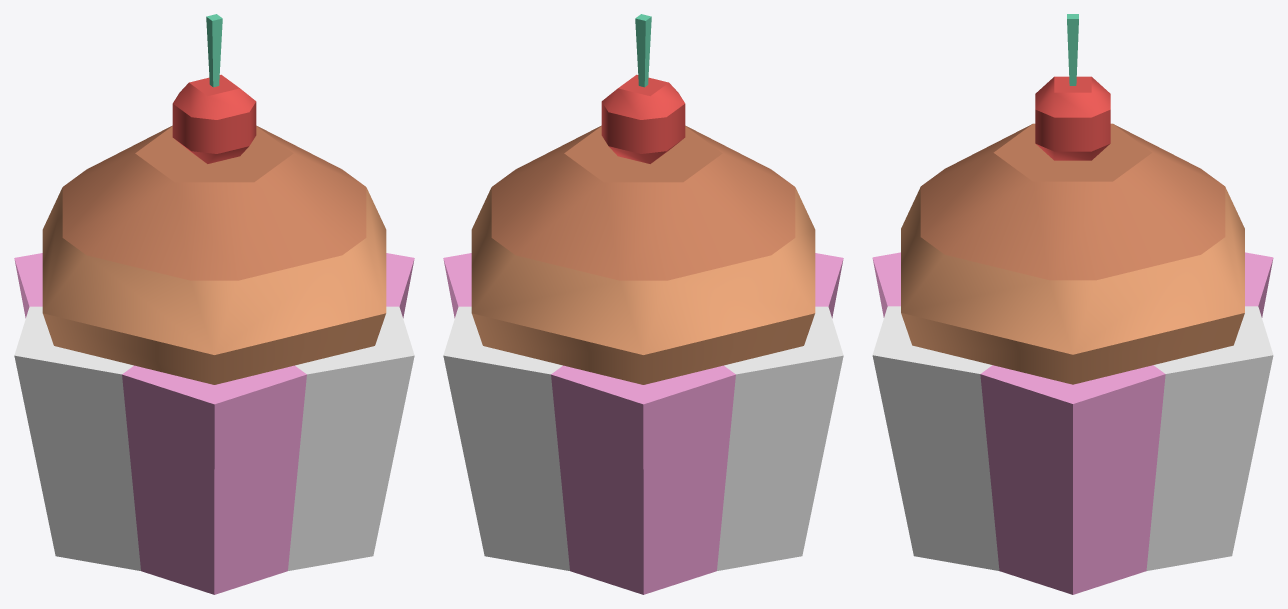
Rendered from Cupcake.glb.
3 renders of one model, left to right at view 1: azimuth 30°, elevation 25°; view 2: azimuth 150°, elevation 25°; view 3: azimuth 270°, elevation 25°, orthographic.
Parts seen in each view (by area): view 1: cupcake, cake, cherry; view 2: cupcake, cake, cherry; view 3: cupcake, cake, cherry.
Part boxes in pixels (bbox=[...]): cupcake: bbox=[14, 253, 414, 594]; cake: bbox=[42, 125, 386, 384]; cherry: bbox=[172, 14, 256, 163]; cupcake: bbox=[443, 253, 843, 594]; cake: bbox=[471, 125, 815, 384]; cherry: bbox=[601, 14, 685, 163]; cupcake: bbox=[872, 252, 1273, 594]; cake: bbox=[901, 123, 1244, 384]; cherry: bbox=[1035, 14, 1110, 160].
Bounding box in the file's own units: 0.3552 × 0.4238 × 0.3076.
